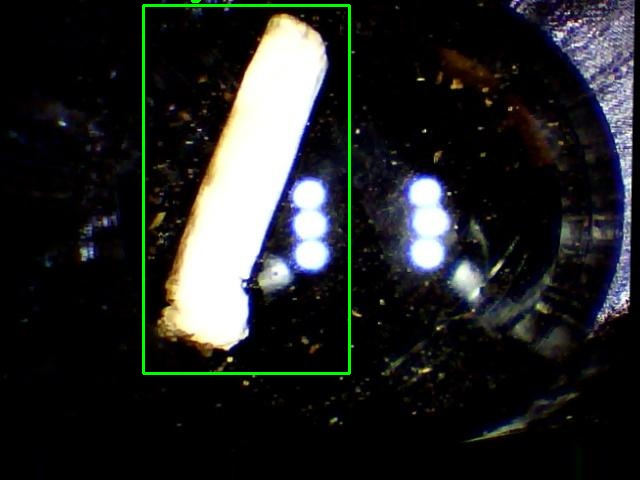megot: (143, 5, 349, 373)
